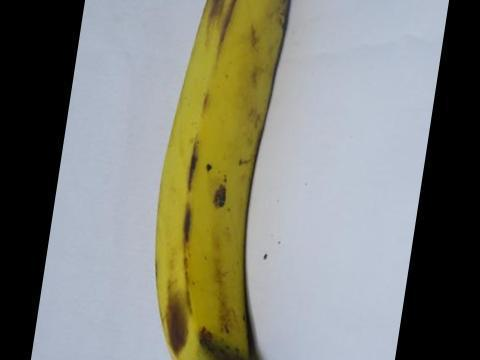ripe: (142, 0, 303, 359)
